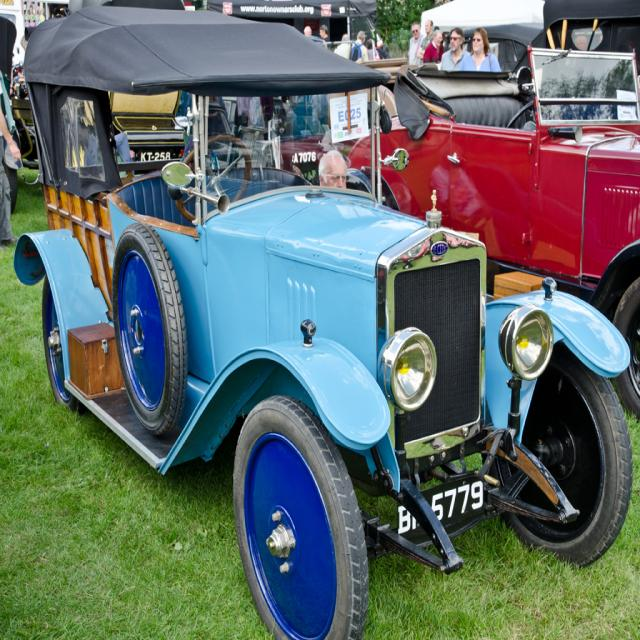car: (12, 9, 633, 637)
